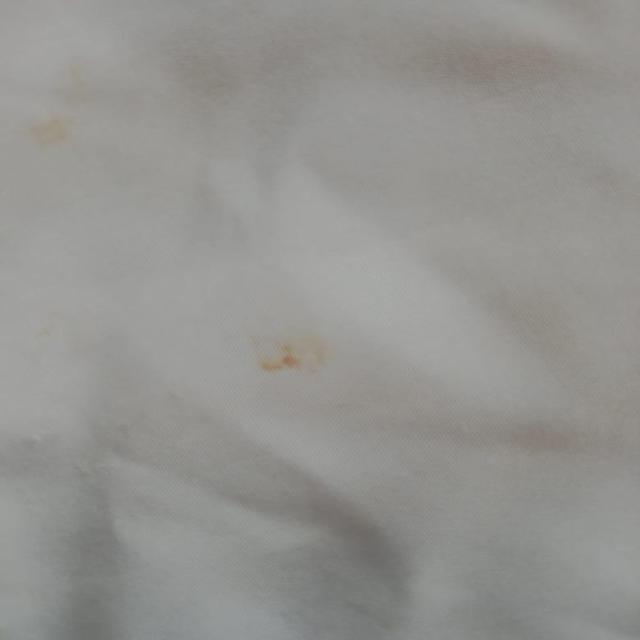stain: (18, 48, 113, 156), (239, 319, 345, 384)
